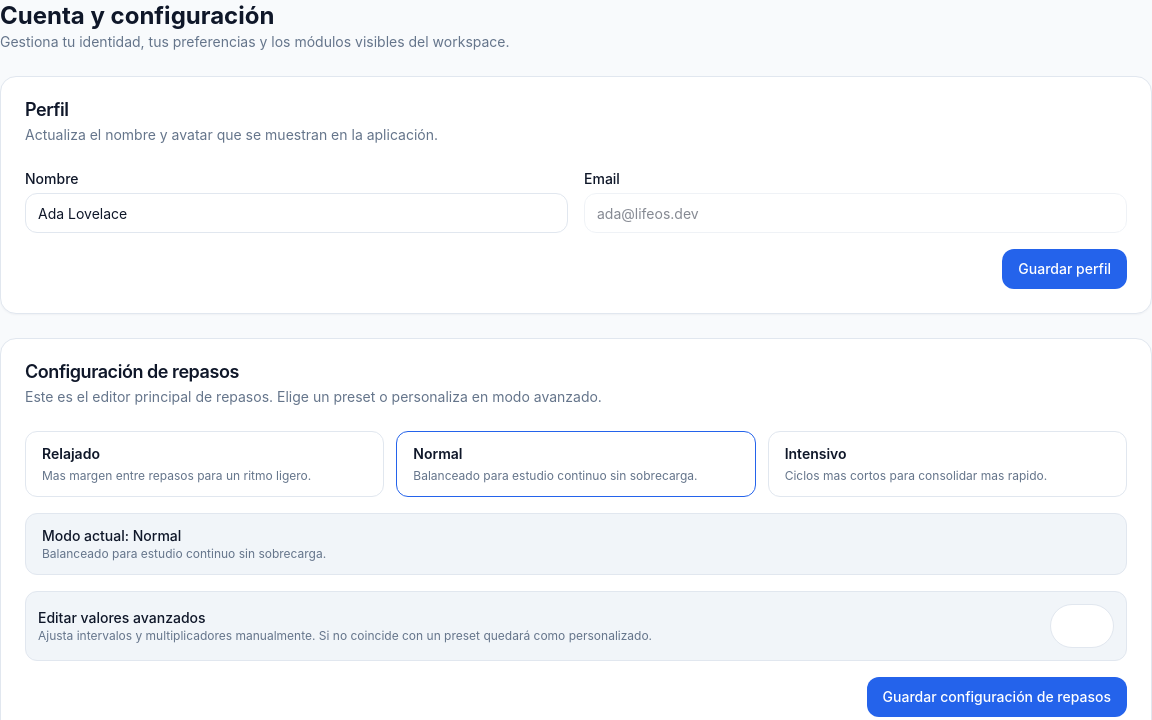
Scenario: AccountSettingsPage › saves manual advanced settings as raw payload and marks mode as custom
The image size is (1152, 720).
Check: the heading "Configuración de repasos" is shown, box left=25, top=361, right=239, bottom=382
Check: the text "Modo actual: Normal" is shown, box left=42, top=527, right=181, bottom=544
Click the button named "Modo avanzado desactivado": (1082, 626) left=1050, top=604, right=1114, bottom=648
(page scrolled)
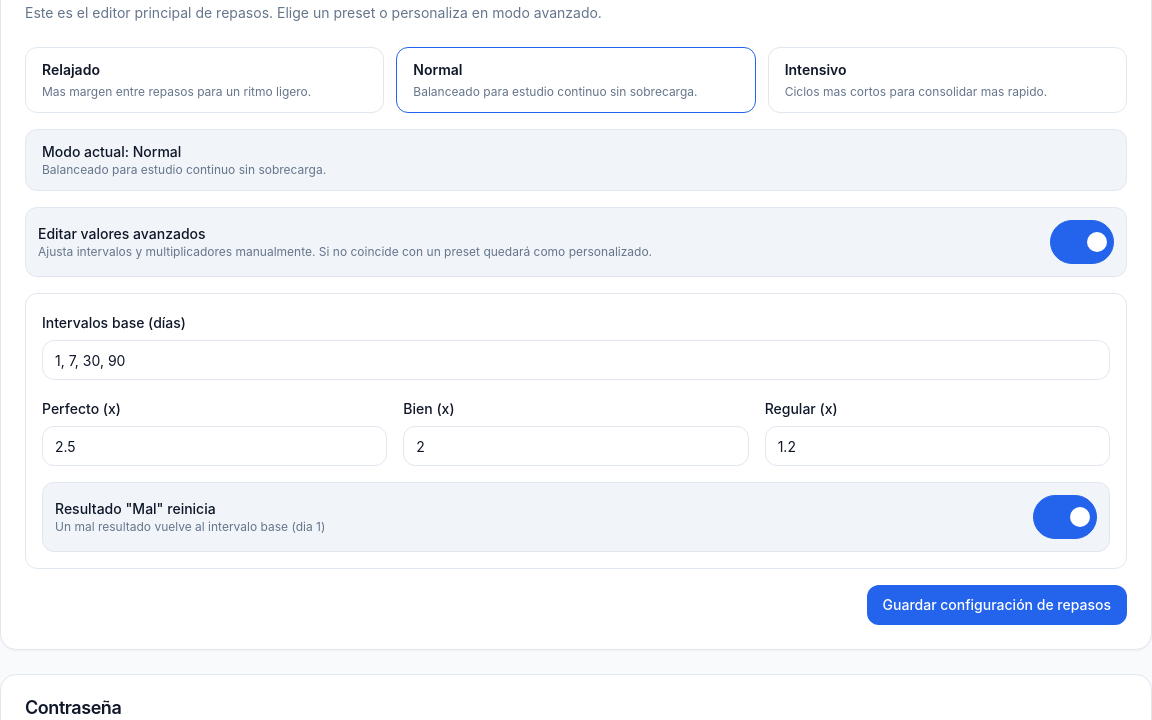
In the field showing "1, 7, 30, 90": (576, 360) left=42, top=340, right=1110, bottom=380, type "2, 8, 20, 60"
Replace the text in the number field showing "2.5" below "Perfecto (x)" with "2.7": (215, 446) left=42, top=426, right=387, bottom=466
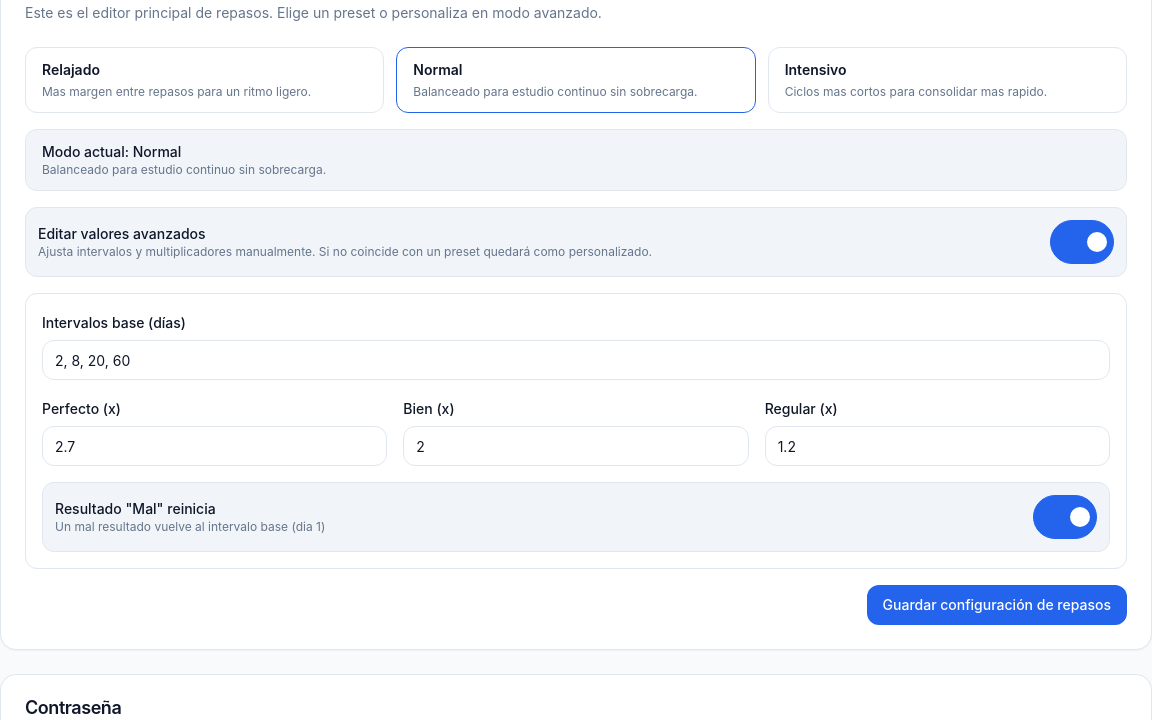
Replace the text in the number field showing "2" below "Bien (x)" with "1.9": (576, 446) left=403, top=426, right=749, bottom=466
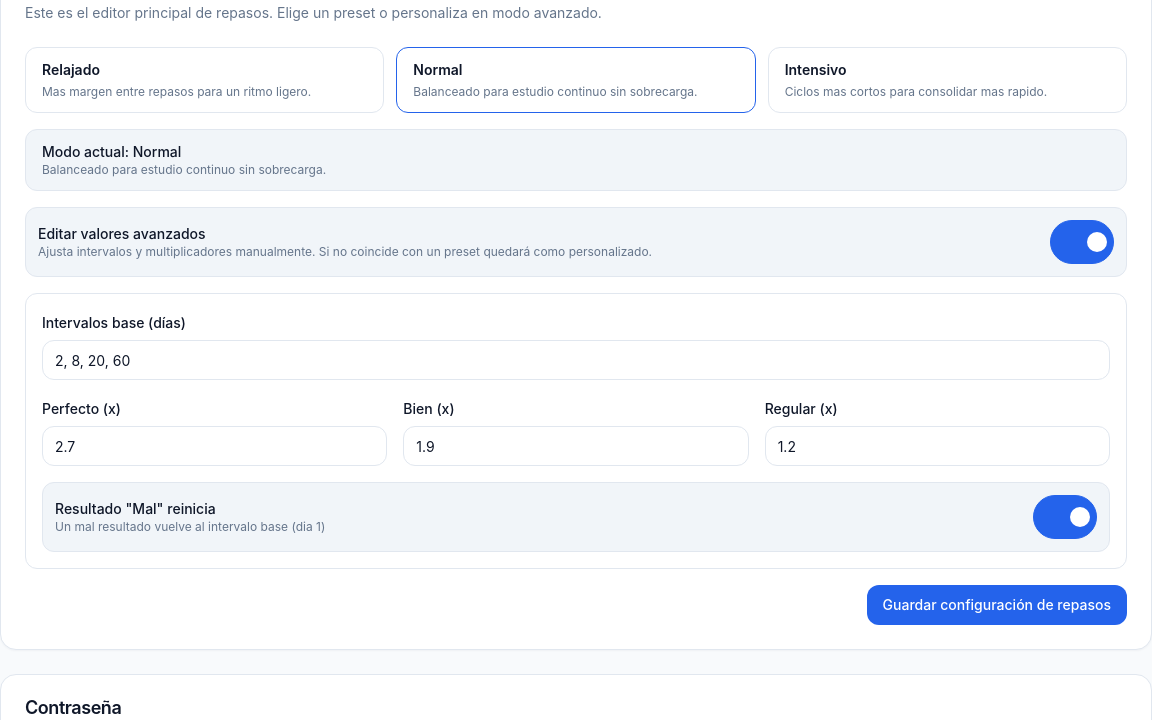
Replace the text in the number field showing "1.2" below "Regular (x)" with "1.15": (937, 446) left=765, top=426, right=1110, bottom=466
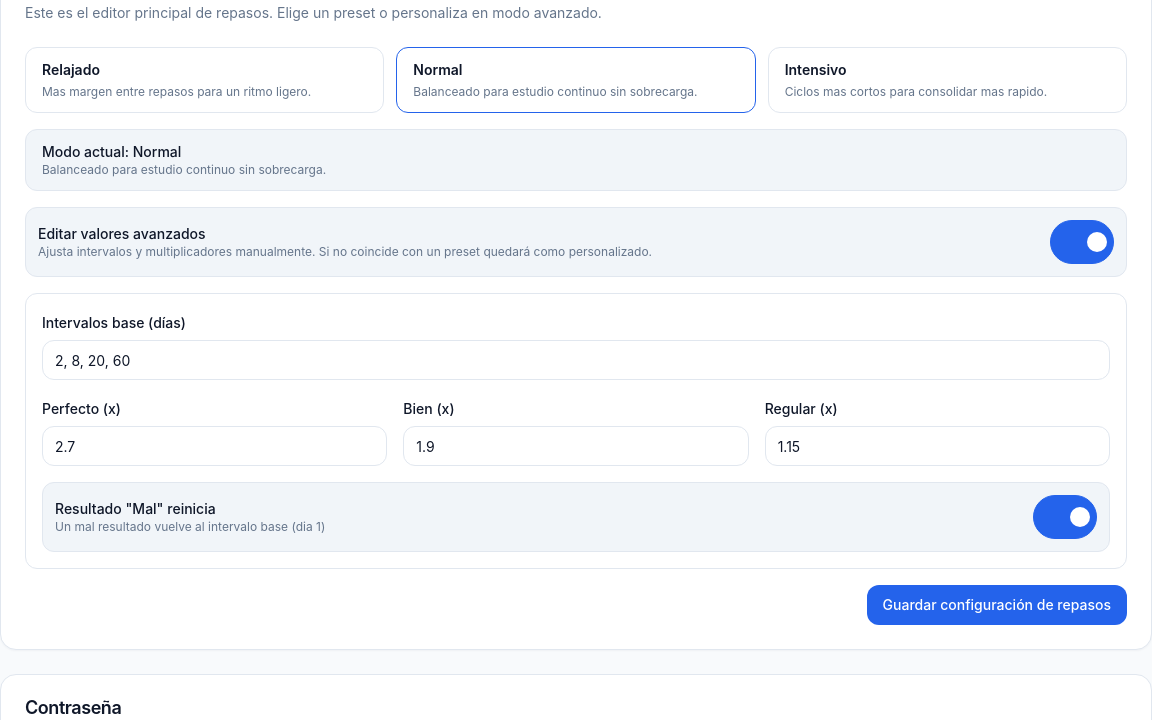
Click the button named "Reinicio activado": (1065, 517) left=1033, top=495, right=1097, bottom=539
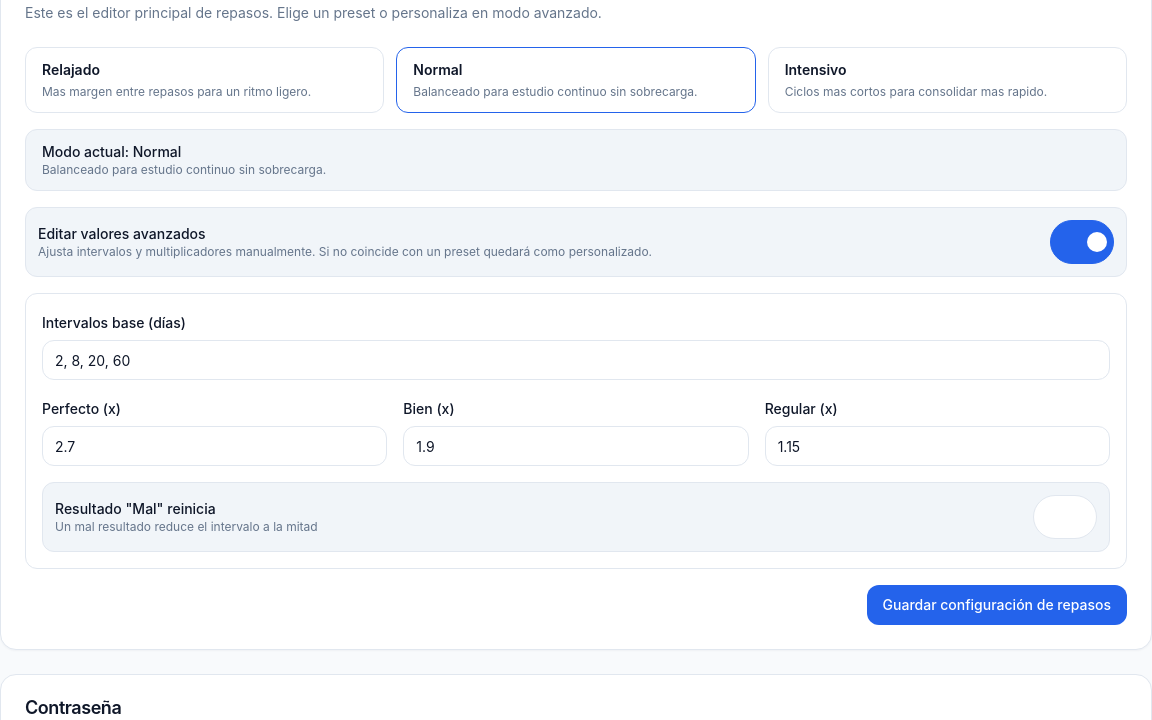
Click the button "Guardar configuración de repasos": (997, 605) left=866, top=585, right=1127, bottom=625
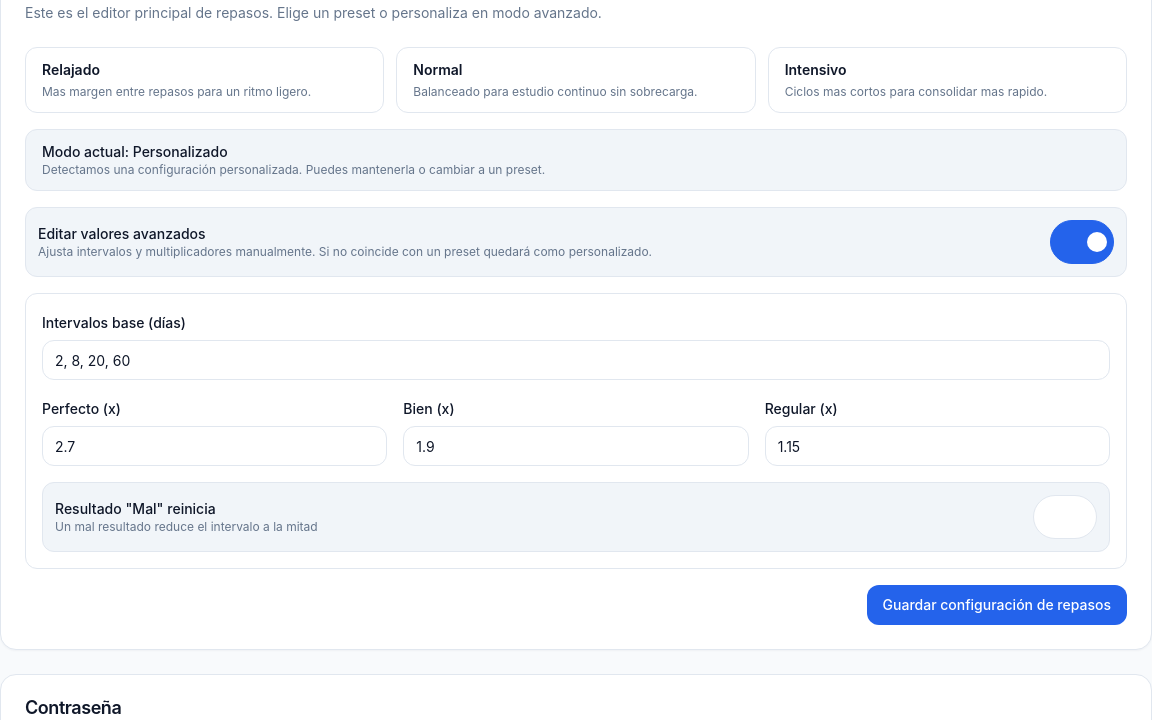
Check: the text "Detectamos una configuración personalizada. Puedes mantenerla o cambiar a un preset." is shown, box left=42, top=162, right=545, bottom=177
